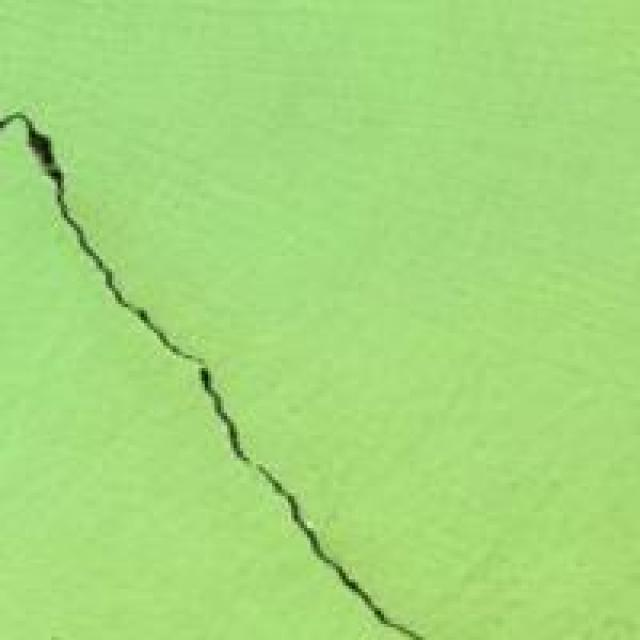Crack: (0, 93, 432, 637)
